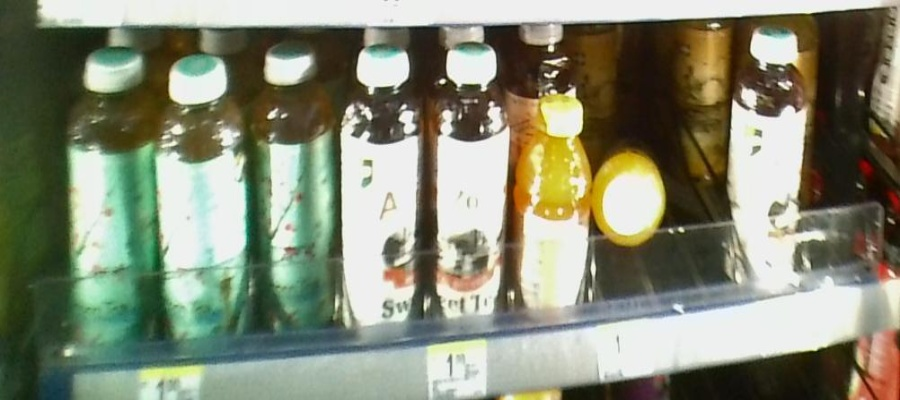bottle: (64, 49, 154, 360), (156, 47, 247, 344), (338, 47, 424, 340), (425, 36, 511, 329), (251, 41, 334, 334), (734, 32, 808, 290), (516, 94, 588, 329), (601, 149, 663, 265)
